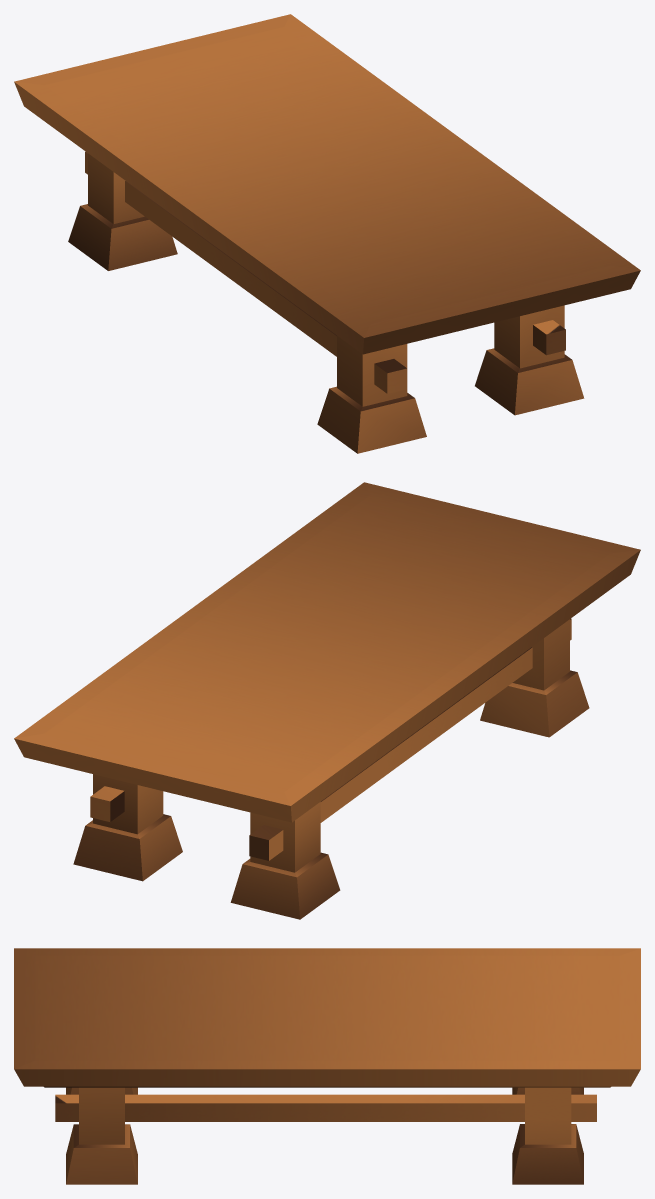
Rendered from Pitkäpöytä.fbx.
3 views of the same model, one above another, from view 1: azimuth 30°, elevation 25°; view 2: azimuth 150°, elevation 25°; view 3: azimuth 270°, elevation 25° (orthographic). The views are drawn at different scales.
Parts seen in each view (by area): view 1: pCube3; view 2: pCube3; view 3: pCube3.
Part boxes in pixels (x1=…): pCube3: x1=14, y1=14, x2=640, y2=453; pCube3: x1=14, y1=482, x2=640, y2=919; pCube3: x1=14, y1=948, x2=640, y2=1184.
Size of the model in its own units: 7.37 by 3.64 by 16.15.
